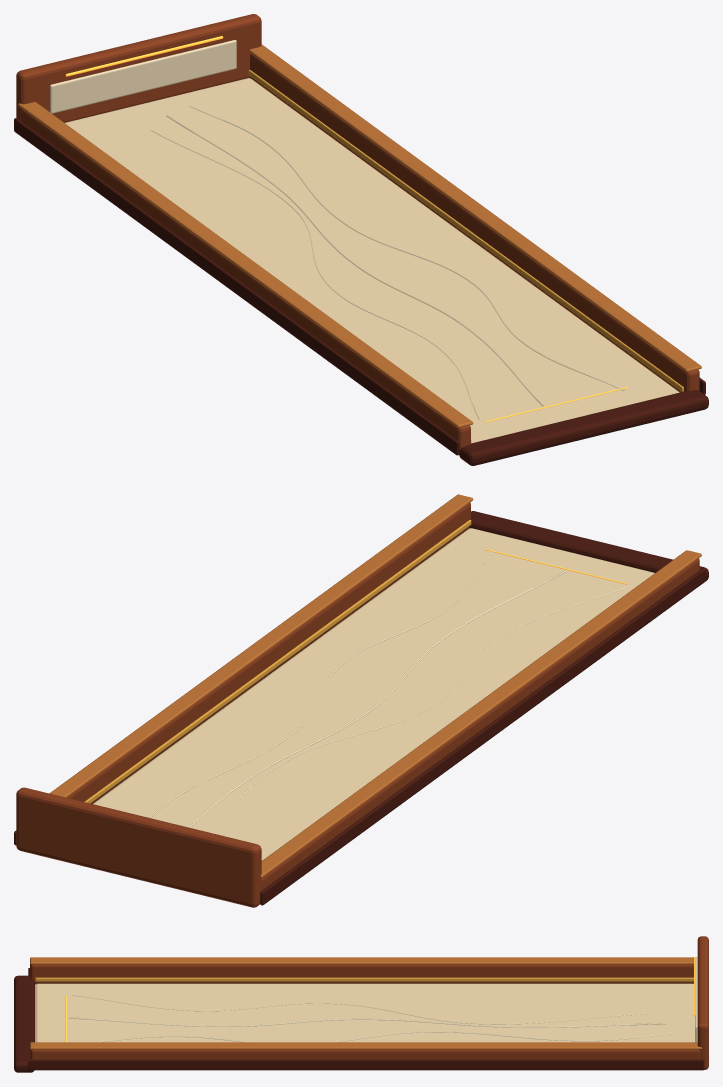
The model's file is lane-v51.glb.
3 views of the same model, one above another, from view 1: azimuth 30°, elevation 25°; view 2: azimuth 150°, elevation 25°; view 3: azimuth 270°, elevation 25° (orthographic). The views are drawn at different scales.
Parts seen in each view (by area): view 1: LaneSurface, RightRail, FrontWall, LeftRailCap, RightRailCap, LeftOuter, LeftRail, Apron, FrontInset, RightTrim, LaneVein2, LaneVein1 (+1 smaller); view 2: LaneSurface, FrontWall, RightRail, LeftRailCap, RightRailCap, LeftOuter, LeftRail, Apron, RightTrim, LaneVein2, LaneVein1, LaneVein0; view 3: LaneSurface, LeftRail, RightOuter, RightRail, RightRailCap, LeftRailCap, LeftTrim, Apron, FrontWall, LaneVein2, LaneVein0, LaneVein1 (+1 smaller).
Boxes of the visible parts, x1,y1,x2,y2 form: LaneSurface: (65,78,679,443); RightRail: (250,53,699,392); FrontWall: (16,14,261,122); LeftRailCap: (18,102,473,427); RightRailCap: (249,44,701,371); LeftOuter: (14,118,459,455); LeftRail: (20,108,470,450); Apron: (459,390,708,465); FrontInset: (50,40,236,113); RightTrim: (248,69,683,391); LaneVein2: (166,115,543,406); LaneVein1: (189,105,624,391); LaneSurface: (93,528,654,860); FrontWall: (16,787,261,907); RightRail: (67,502,470,803); LeftRailCap: (260,550,701,877); RightRailCap: (49,494,473,797); LeftOuter: (260,568,705,905); LeftRail: (261,558,699,890); Apron: (469,511,708,580); RightTrim: (84,519,471,803); LaneVein2: (188,570,566,827); LaneVein1: (149,548,494,817); LaneVein0: (213,587,625,833); LaneSurface: (35,983,695,1042); LeftRail: (30,964,693,984); RightOuter: (28,1059,704,1070); RightRail: (30,1049,700,1059); RightRailCap: (30,1042,702,1049); LeftRailCap: (30,957,697,964); LeftTrim: (35,977,693,981); Apron: (14,975,34,1072); FrontWall: (697,936,708,1069); LaneVein2: (69,1017,666,1027); LaneVein0: (72,994,649,1024); LaneVein1: (96,1031,673,1042).
Bounding box in the file's own units: 6.5 × 1.64 × 20.58.
